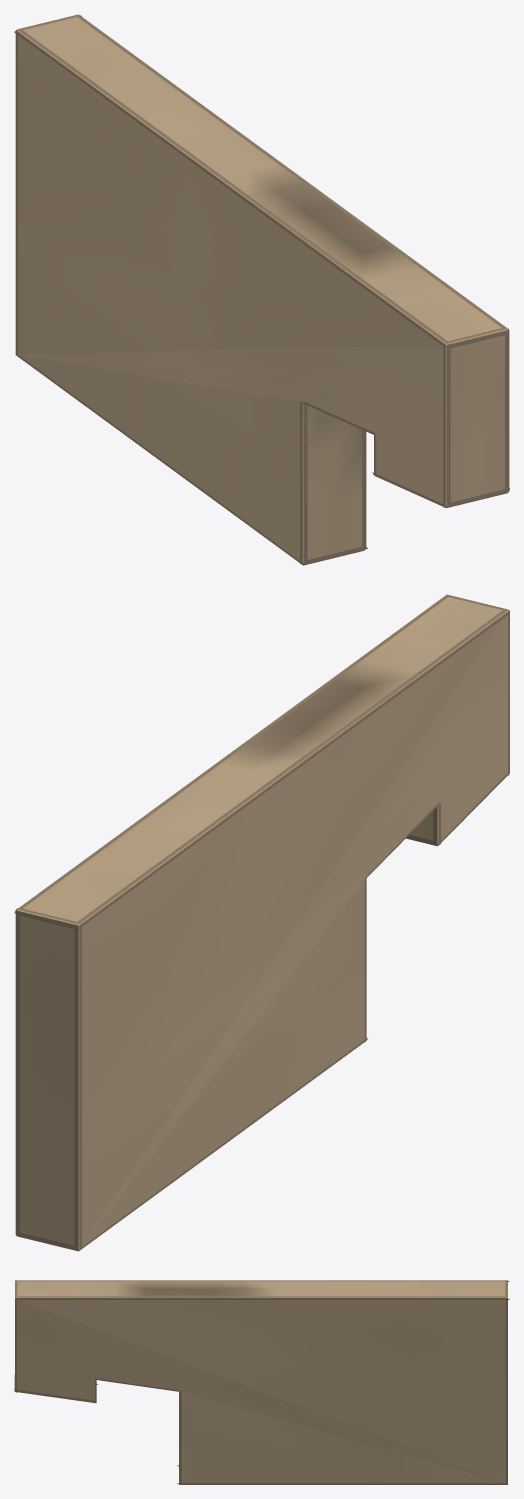
The model's file is key.glb.
3 views of the same model, one above another, from view 1: azimuth 30°, elevation 25°; view 2: azimuth 150°, elevation 25°; view 3: azimuth 270°, elevation 25° (orthographic). The views are drawn at different scales.
Parts seen in each view (by area): view 1: key; view 2: key; view 3: key.
Boxes of the visible parts, x1,y1,x2,y2 form: key: [14, 14, 509, 565]; key: [14, 594, 509, 1251]; key: [14, 1280, 509, 1484].
Bounding box in the file's own units: 0.0248 × 0.1208 × 0.2897.
